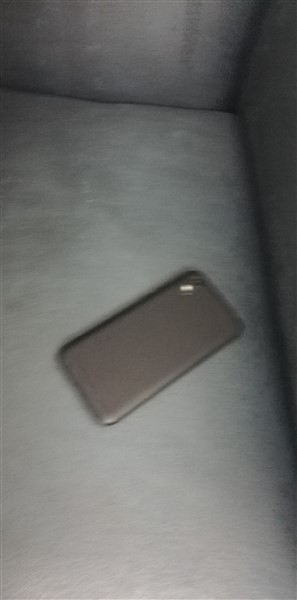telefon: (51, 260, 251, 433)
